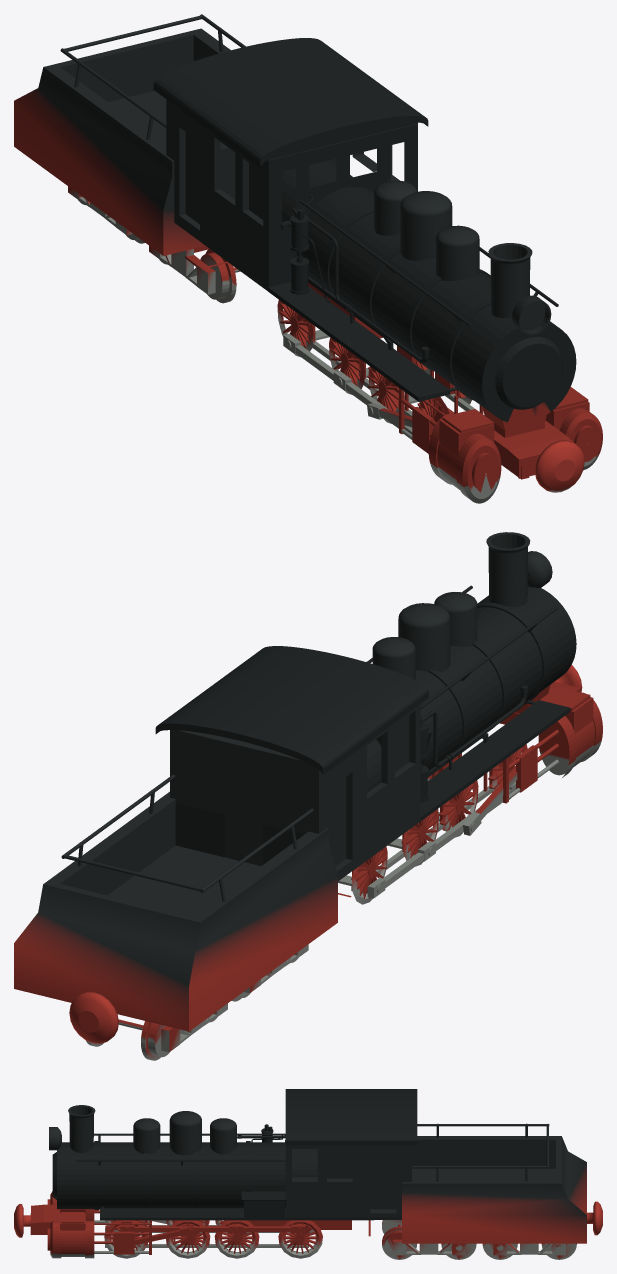
3 views of the same model, one above another, from view 1: azimuth 30°, elevation 25°; view 2: azimuth 150°, elevation 25°; view 3: azimuth 270°, elevation 25° (orthographic). The views are drawn at different scales.
Visible parts, largest first — view 1: pTorus9:PIV; view 2: pTorus9:PIV; view 3: pTorus9:PIV.
Boxes of the visible parts, bbox=[...] form: pTorus9:PIV: bbox=[14, 14, 602, 503]; pTorus9:PIV: bbox=[14, 532, 602, 1060]; pTorus9:PIV: bbox=[14, 1089, 602, 1259].
Size of the model in its own units: 209 by 266 by 981.
